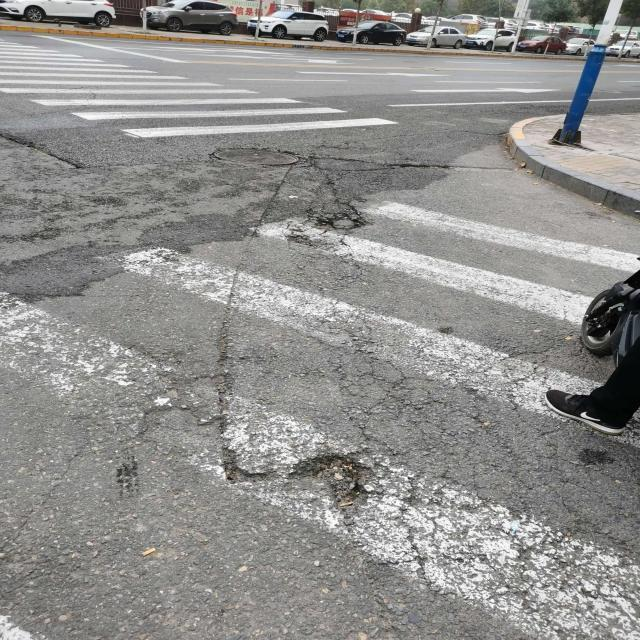pothole: (223, 451, 381, 530), (223, 154, 458, 176), (307, 209, 377, 240)
